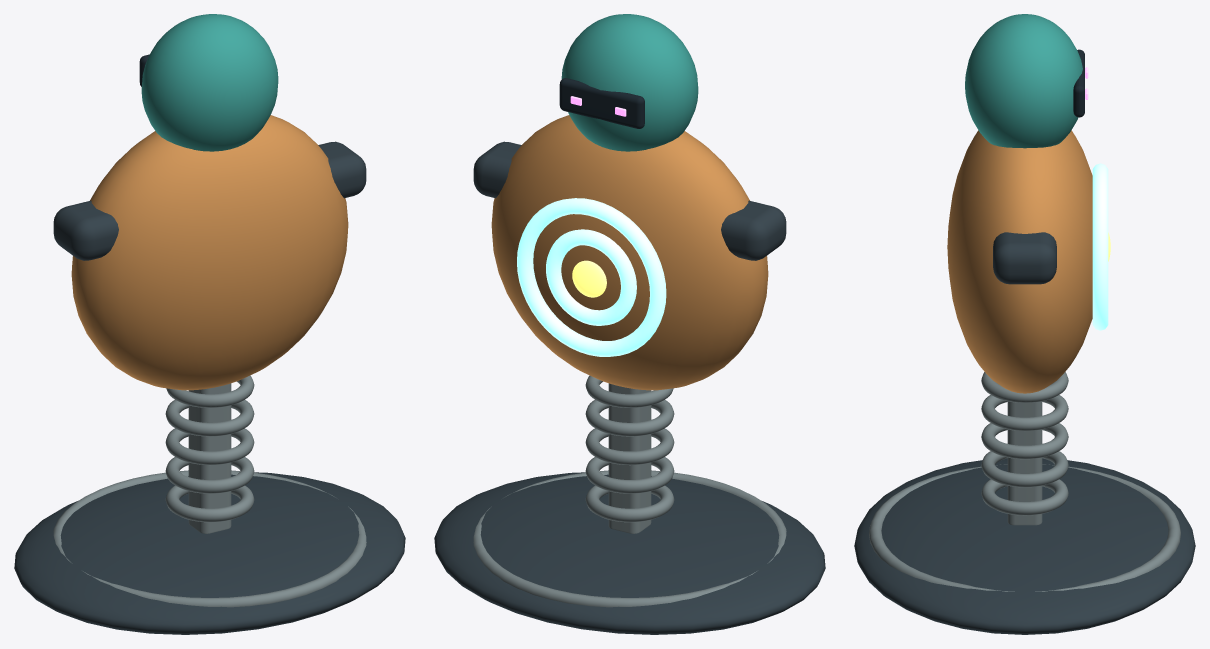
The model's file is target_dummy.glb.
3 views of the same model, side by side, from view 1: azimuth 30°, elevation 25°; view 2: azimuth 150°, elevation 25°; view 3: azimuth 270°, elevation 25° (orthographic).
Parts seen in each view (by area): view 1: padded_target, dummy_base, head, shoulder_bar, base_band, spring_post, spring, spring.003, spring.002, spring.001, spring.004; view 2: padded_target, dummy_base, head, target_ring, shoulder_bar, base_band, target_ring.001, spring_post, face, spring, spring.003, spring.002 (+3 smaller); view 3: dummy_base, padded_target, head, base_band, shoulder_bar, target_ring, spring_post, spring, spring.001, spring.002, spring.003, spring.004 (+1 smaller).
Boxes of the visible parts, x1=… form: padded_target: x1=71, y1=115, x2=348, y2=390; dummy_base: x1=14, y1=472, x2=405, y2=634; head: x1=141, y1=14, x2=278, y2=151; shoulder_bar: x1=53, y1=141, x2=366, y2=260; base_band: x1=53, y1=470, x2=366, y2=607; spring_post: x1=188, y1=383, x2=231, y2=533; spring: x1=165, y1=485, x2=254, y2=522; spring.003: x1=165, y1=400, x2=254, y2=436; spring.002: x1=165, y1=428, x2=254, y2=465; spring.001: x1=165, y1=457, x2=254, y2=493; spring.004: x1=166, y1=375, x2=254, y2=407; padded_target: x1=491, y1=115, x2=768, y2=390; dummy_base: x1=434, y1=472, x2=825, y2=634; head: x1=561, y1=14, x2=698, y2=151; target_ring: x1=517, y1=198, x2=666, y2=356; shoulder_bar: x1=473, y1=141, x2=786, y2=260; base_band: x1=473, y1=470, x2=786, y2=607; target_ring.001: x1=546, y1=229, x2=636, y2=325; spring_post: x1=608, y1=383, x2=651, y2=533; face: x1=559, y1=78, x2=644, y2=128; spring: x1=585, y1=485, x2=674, y2=522; spring.003: x1=585, y1=400, x2=674, y2=436; spring.002: x1=585, y1=428, x2=674, y2=465; dummy_base: x1=854, y1=458, x2=1195, y2=634; padded_target: x1=947, y1=130, x2=1092, y2=393; head: x1=965, y1=14, x2=1082, y2=148; base_band: x1=869, y1=464, x2=1180, y2=591; shoulder_bar: x1=993, y1=232, x2=1056, y2=284; target_ring: x1=1092, y1=163, x2=1108, y2=330; spring_post: x1=1007, y1=401, x2=1042, y2=525; spring: x1=981, y1=479, x2=1068, y2=515; spring.001: x1=981, y1=451, x2=1068, y2=487; spring.002: x1=981, y1=423, x2=1068, y2=459; spring.003: x1=981, y1=395, x2=1068, y2=430; spring.004: x1=981, y1=372, x2=1068, y2=402.
Size of the model in its own units: 2.06 by 3.15 by 1.76.
